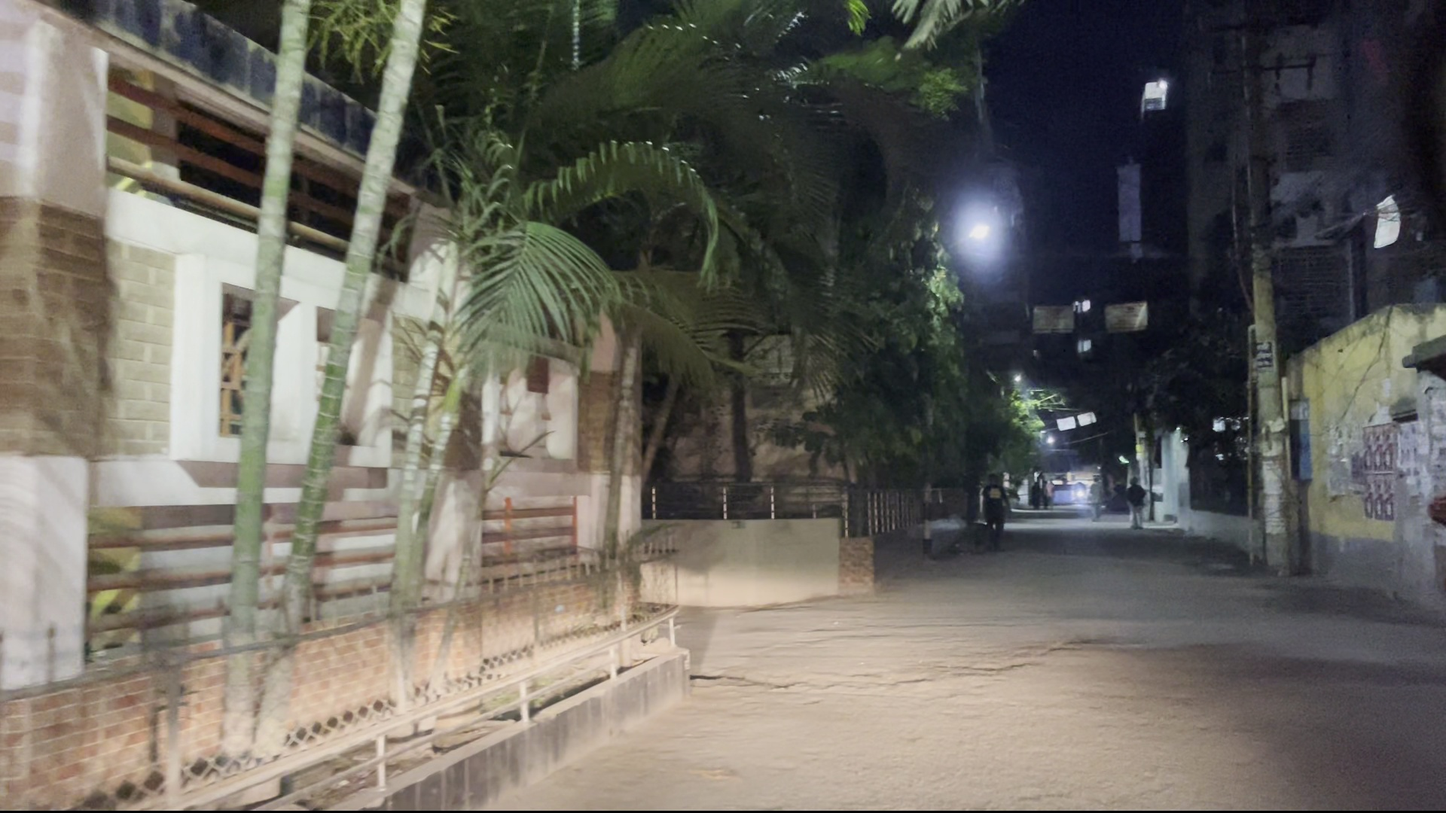person: (980, 468, 1009, 551)
